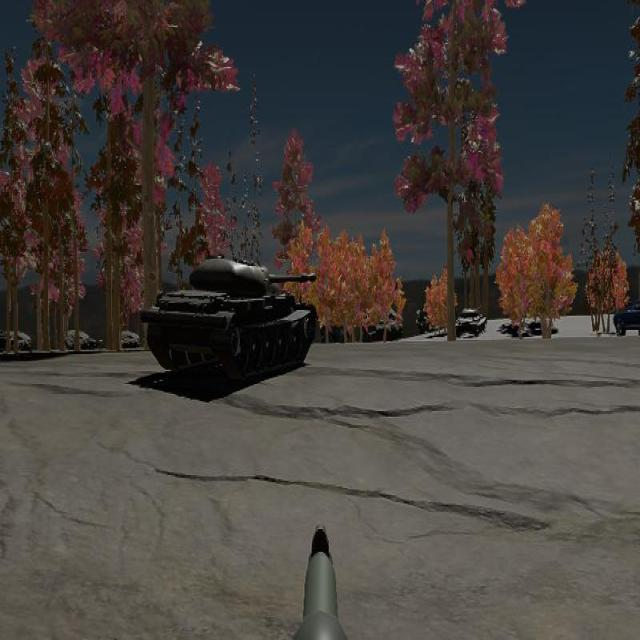Tank: (143, 254, 318, 383), (455, 304, 486, 336)
car: (614, 301, 640, 337)
